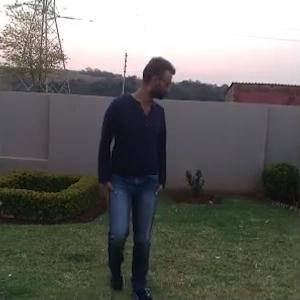follow: (95, 46, 174, 280)
